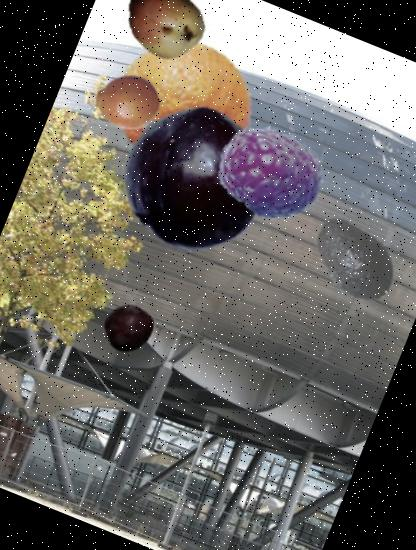Avocado: (294, 198, 415, 318)
Mandarine: (93, 16, 276, 198)
Papaya: (111, 0, 218, 73)
Plum: (100, 84, 289, 273), (95, 294, 162, 362)
Raspberry: (200, 102, 340, 243)
Tangelo: (83, 60, 168, 145)
